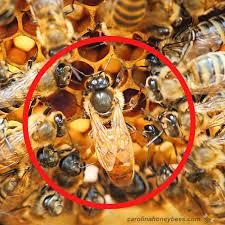Queen-Bee: (78, 65, 148, 188)
